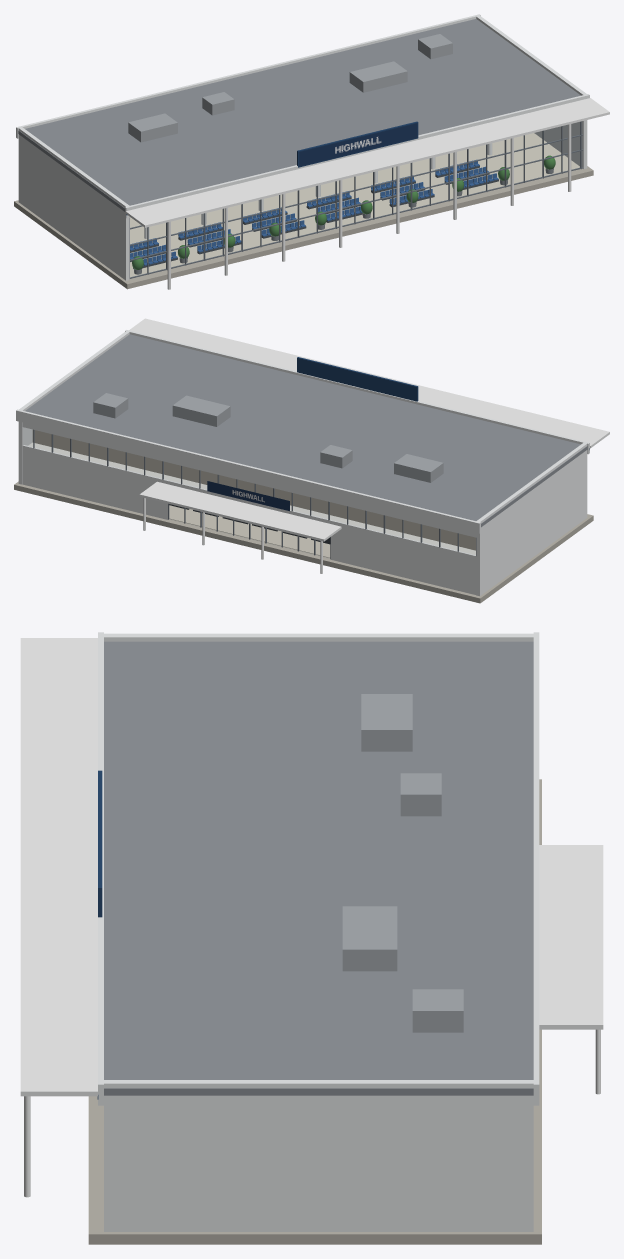
The model's file is terminal.glb.
3 renders of one model, top to bottom at view 1: azimuth 30°, elevation 25°; view 2: azimuth 150°, elevation 25°; view 3: azimuth 270°, elevation 25°, orthographic. The views are drawn at different scales.
Parts seen in each view (by area): view 1: roof_membrane, cladding_white, steel_white, floor_terrazzo, concrete_plinth, mullion_steel, seat_blue, rooftop_plant, sign_highwall, seat_frame, plant_green, sign_board_airside (+1 smaller); view 2: roof_membrane, cladding_white, steel_white, wall_interior, concrete_plinth, rooftop_plant, floor_terrazzo, sign_board_airside, slab_white, mullion_steel, sign_highwall_landside; view 3: roof_membrane, cladding_white, steel_white, rooftop_plant, concrete_plinth.
Boxes of the visible parts, x1=… form: roof_membrane: x1=18, y1=19, x2=580, y2=211; cladding_white: x1=16, y1=14, x2=589, y2=280; steel_white: x1=125, y1=98, x2=609, y2=289; floor_terrazzo: x1=130, y1=133, x2=579, y2=277; concrete_plinth: x1=14, y1=166, x2=593, y2=289; mullion_steel: x1=129, y1=121, x2=583, y2=278; seat_blue: x1=130, y1=159, x2=498, y2=266; rooftop_plant: x1=128, y1=34, x2=452, y2=142; sign_highwall: x1=299, y1=123, x2=417, y2=166; seat_frame: x1=130, y1=166, x2=498, y2=268; plant_green: x1=132, y1=155, x2=555, y2=269; sign_board_airside: x1=297, y1=121, x2=418, y2=167; roof_membrane: x1=25, y1=334, x2=587, y2=527; cladding_white: x1=16, y1=330, x2=589, y2=596; steel_white: x1=129, y1=318, x2=609, y2=573; wall_interior: x1=32, y1=430, x2=475, y2=550; concrete_plinth: x1=14, y1=481, x2=593, y2=603; rooftop_plant: x1=93, y1=393, x2=443, y2=482; floor_terrazzo: x1=169, y1=505, x2=330, y2=557; sign_board_airside: x1=297, y1=357, x2=418, y2=401; slab_white: x1=28, y1=442, x2=475, y2=554; mullion_steel: x1=33, y1=429, x2=476, y2=559; sign_highwall_landside: x1=207, y1=481, x2=289, y2=511; roof_membrane: x1=104, y1=641, x2=533, y2=1095; cladding_white: x1=98, y1=632, x2=539, y2=1231; steel_white: x1=20, y1=638, x2=603, y2=1197; rooftop_plant: x1=342, y1=694, x2=463, y2=1032; concrete_plinth: x1=88, y1=779, x2=541, y2=1244.
Bounding box in the file's own units: 63.2 × 12.15 × 34.2.
Materials: 28 (1 with a texture image).
